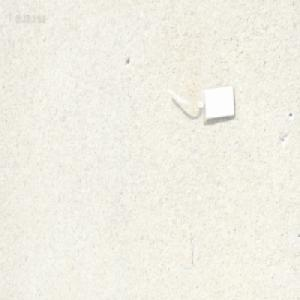LuggageTag: (165, 81, 237, 124)
